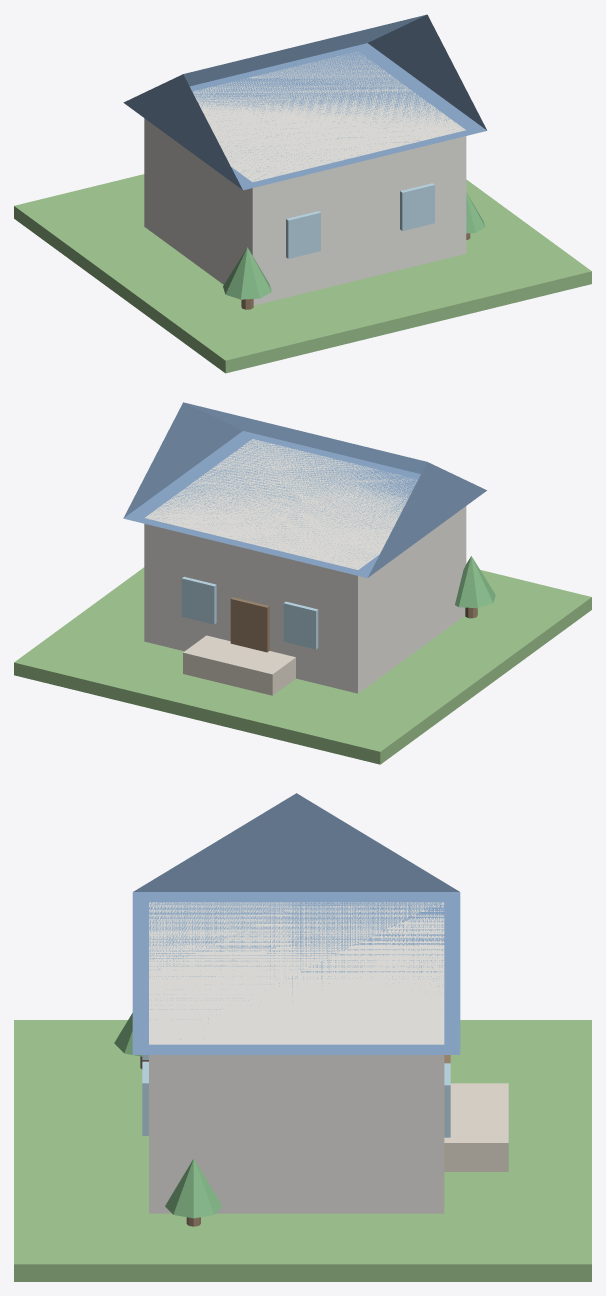
File: mayor_house.glb
3 renders of one model, top to bottom at view 1: azimuth 30°, elevation 25°; view 2: azimuth 150°, elevation 25°; view 3: azimuth 270°, elevation 25°, orthographic. The views are drawn at different scales.
Parts seen in each view (by area): view 1: house_body, garden_base, house_roof, tree_left_foliage, rear_window_1, rear_window_0, tree_right_foliage; view 2: house_body, garden_base, house_roof, porch, door, front_window_0, front_window_1, tree_left_foliage; view 3: house_body, garden_base, house_roof, porch, tree_right_foliage.
Boxes of the visible parts, <box> form: house_body: <box>144,52,466,305</box>; garden_base: <box>14,174,591,373</box>; house_roof: <box>123,14,487,190</box>; tree_left_foliage: <box>223,247,271,299</box>; rear_window_1: <box>400,183,434,230</box>; rear_window_0: <box>286,211,320,258</box>; tree_right_foliage: <box>466,192,485,233</box>; house_body: <box>144,439,466,693</box>; garden_base: <box>14,567,591,764</box>; house_roof: <box>123,402,486,577</box>; porch: <box>183,635,295,695</box>; door: <box>230,597,269,652</box>; front_window_0: <box>283,601,318,649</box>; front_window_1: <box>181,576,216,624</box>; tree_left_foliage: <box>455,556,495,608</box>; house_body: <box>149,902,444,1213</box>; garden_base: <box>14,1020,591,1281</box>; house_roof: <box>132,793,460,1054</box>; porch: <box>444,1083,508,1171</box>; tree_right_foliage: <box>165,1158,222,1218</box>.
Size of the model in its own units: 1.8 by 0.98 by 1.8.
